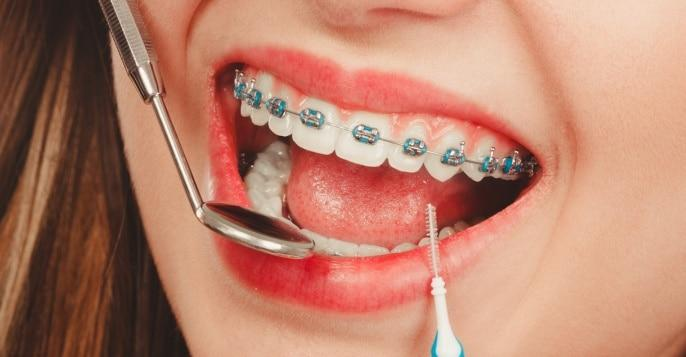Braces: (228, 67, 544, 185)
